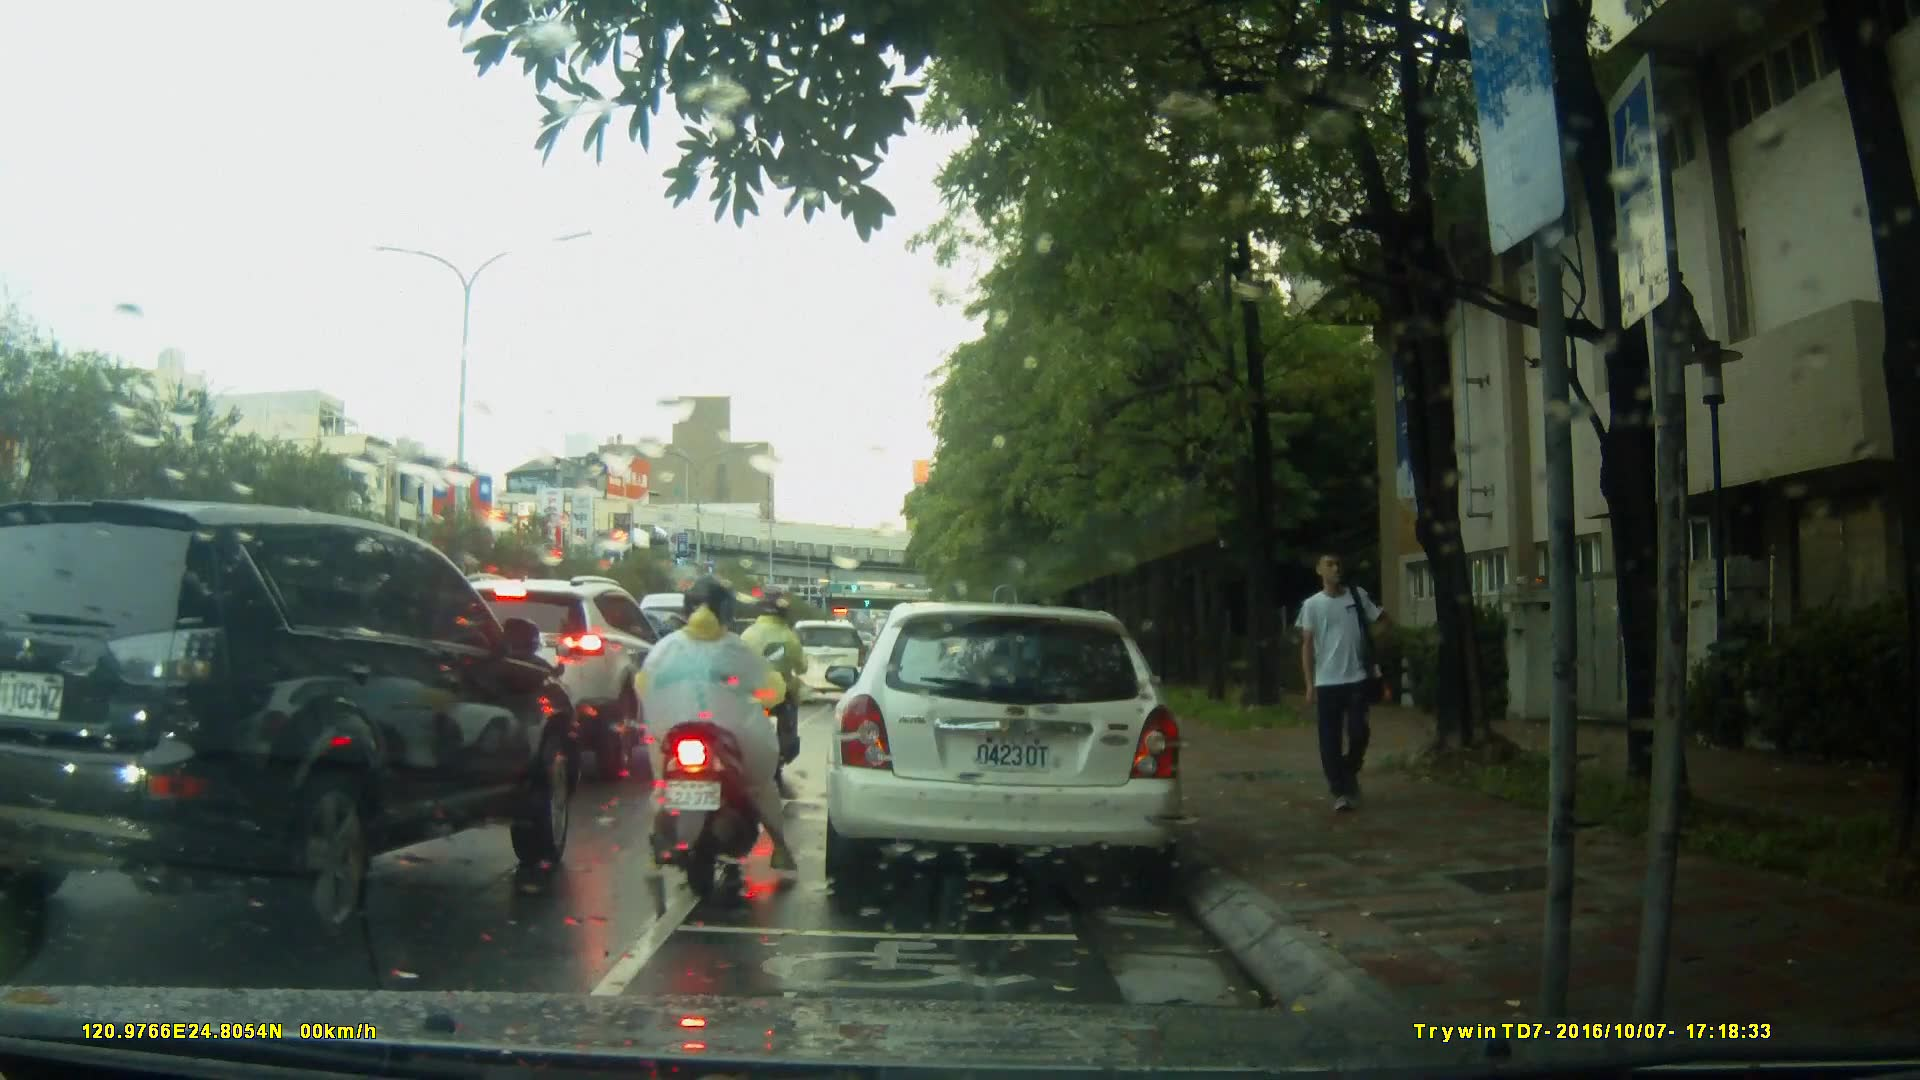pedestrian: (1279, 546, 1389, 824)
rider: (646, 579, 796, 904), (737, 591, 815, 776)
vehicle: (1, 499, 598, 937), (820, 602, 1188, 898), (396, 571, 689, 772), (629, 591, 743, 711), (771, 618, 874, 707)
